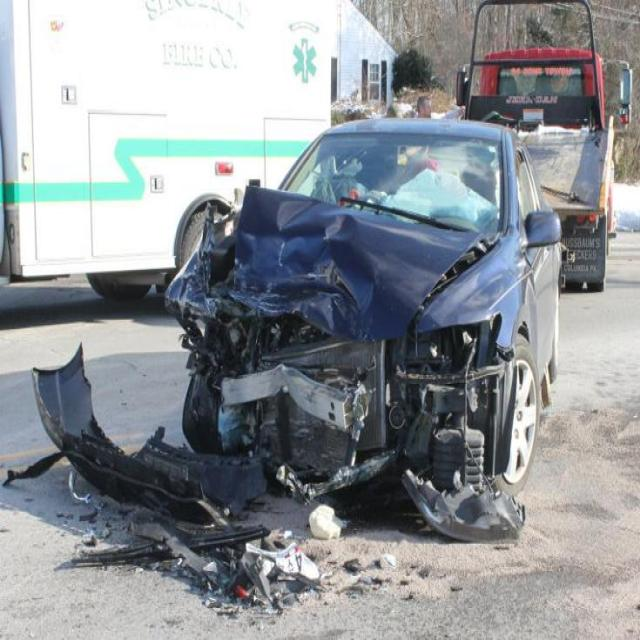Severe Damage: (166, 184, 524, 522)
